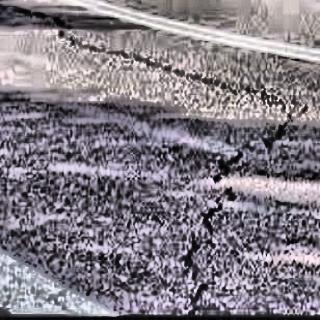crack: (10, 5, 292, 114), (170, 118, 294, 314)
